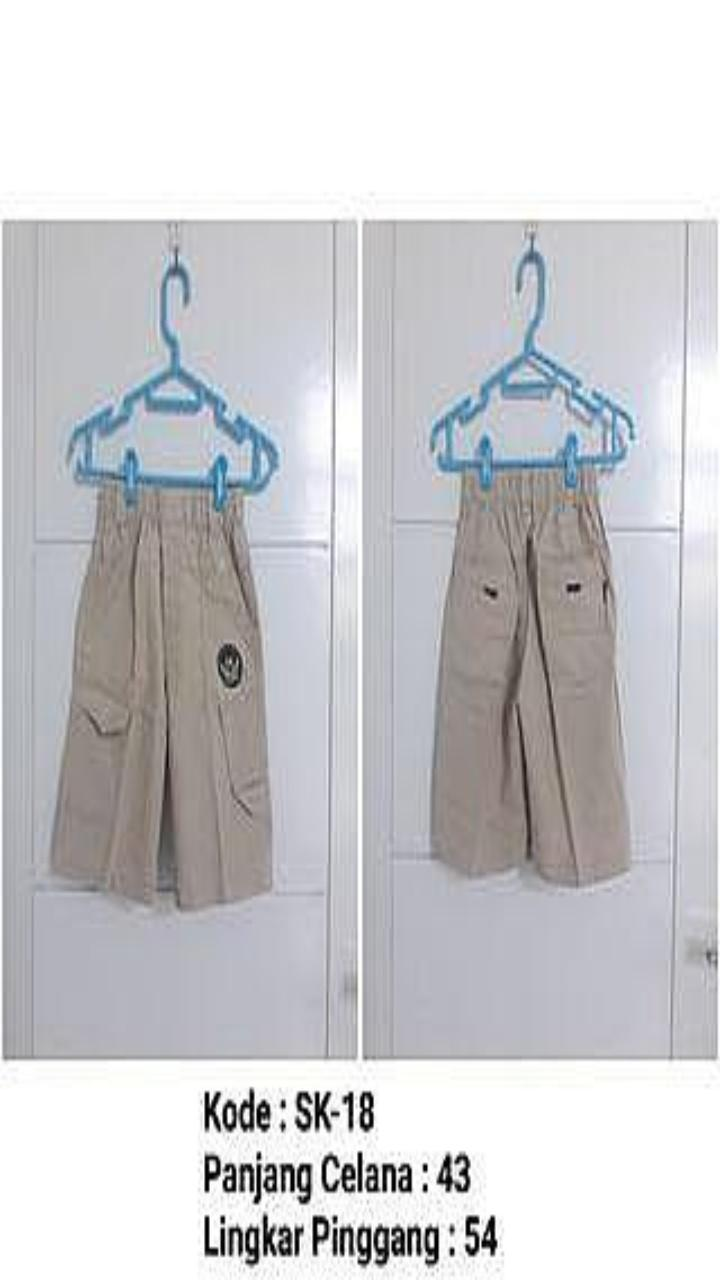Shorts: (52, 485, 271, 907), (432, 470, 629, 883)
